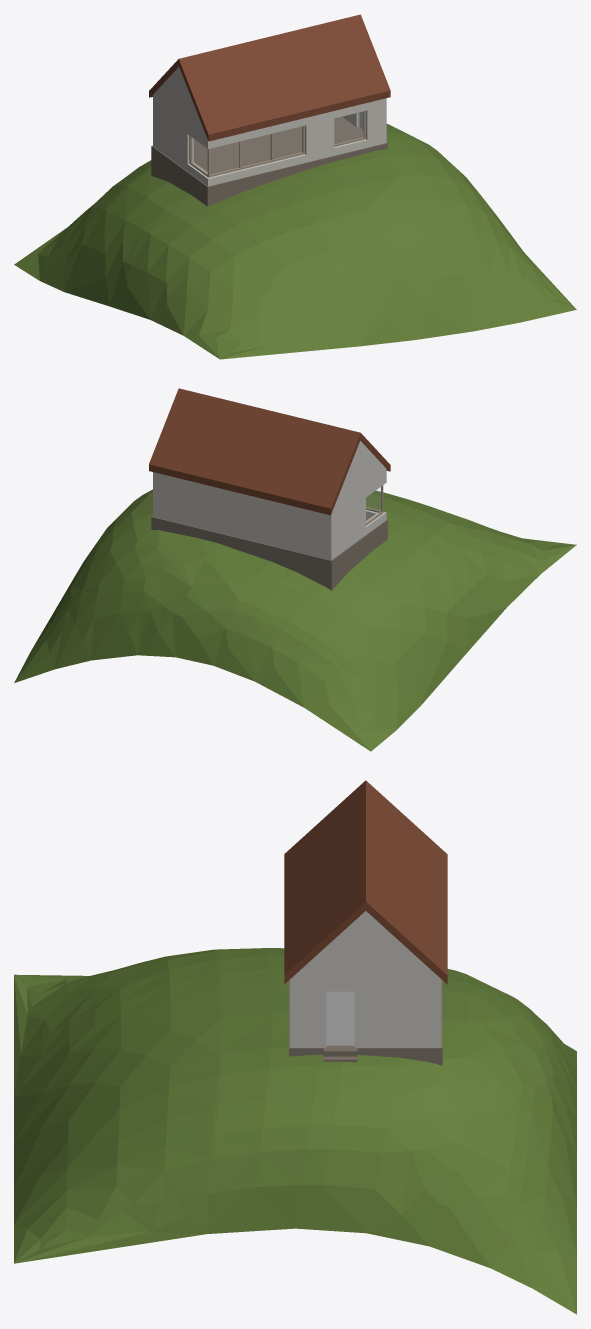
3 views of the same model, one above another, from view 1: azimuth 30°, elevation 25°; view 2: azimuth 150°, elevation 25°; view 3: azimuth 270°, elevation 25° (orthographic). The views are drawn at different scales.
Visible parts, largest first — view 1: 0GNruBn012euT0V4j1zNbY, 1OkhcYSJv5nB5Ye2gD90ix, 0WILkkrrn0ivmOkgqqAb$R, 38MvAlC2H7RhTum1r0FJFg, 15HQrV8WX2nud_EOSSfoGz; view 2: 0GNruBn012euT0V4j1zNbY, 0ZIj0vhLbDIBzLVO1s0S3q, 2dSmIsY2j10OJaUd5RmL3e, 0WILkkrrn0ivmOkgqqAb$R, 15HQrV8WX2nud_EOSSfoGz; view 3: 0GNruBn012euT0V4j1zNbY, 2XjjioqkD00gotrGmqpPnw, 1OkhcYSJv5nB5Ye2gD90ix, 0ZIj0vhLbDIBzLVO1s0S3q, 0WILkkrrn0ivmOkgqqAb$R, 24WV2H7cb3MgDzwgWj1b8X, 38MvAlC2H7RhTum1r0FJFg, 2dSmIsY2j10OJaUd5RmL3e.
Boxes of the visible parts, <box> form: 0GNruBn012euT0V4j1zNbY: <box>14,124,576,359</box>; 1OkhcYSJv5nB5Ye2gD90ix: <box>178,14,390,141</box>; 0WILkkrrn0ivmOkgqqAb$R: <box>151,117,387,206</box>; 38MvAlC2H7RhTum1r0FJFg: <box>204,98,386,186</box>; 15HQrV8WX2nud_EOSSfoGz: <box>156,67,207,183</box>; 0GNruBn012euT0V4j1zNbY: <box>14,489,576,751</box>; 0ZIj0vhLbDIBzLVO1s0S3q: <box>149,388,360,515</box>; 2dSmIsY2j10OJaUd5RmL3e: <box>153,472,334,560</box>; 0WILkkrrn0ivmOkgqqAb$R: <box>151,516,387,590</box>; 15HQrV8WX2nud_EOSSfoGz: <box>334,441,384,557</box>; 0GNruBn012euT0V4j1zNbY: <box>14,948,576,1314</box>; 2XjjioqkD00gotrGmqpPnw: <box>295,911,436,1047</box>; 1OkhcYSJv5nB5Ye2gD90ix: <box>284,780,365,984</box>; 0ZIj0vhLbDIBzLVO1s0S3q: <box>366,780,447,984</box>; 0WILkkrrn0ivmOkgqqAb$R: <box>289,979,442,1065</box>; 24WV2H7cb3MgDzwgWj1b8X: <box>326,991,354,1045</box>; 38MvAlC2H7RhTum1r0FJFg: <box>290,971,300,1047</box>; 2dSmIsY2j10OJaUd5RmL3e: <box>431,971,441,1047</box>.
Size of the model in its own units: 20 by 13.91 by 20.
